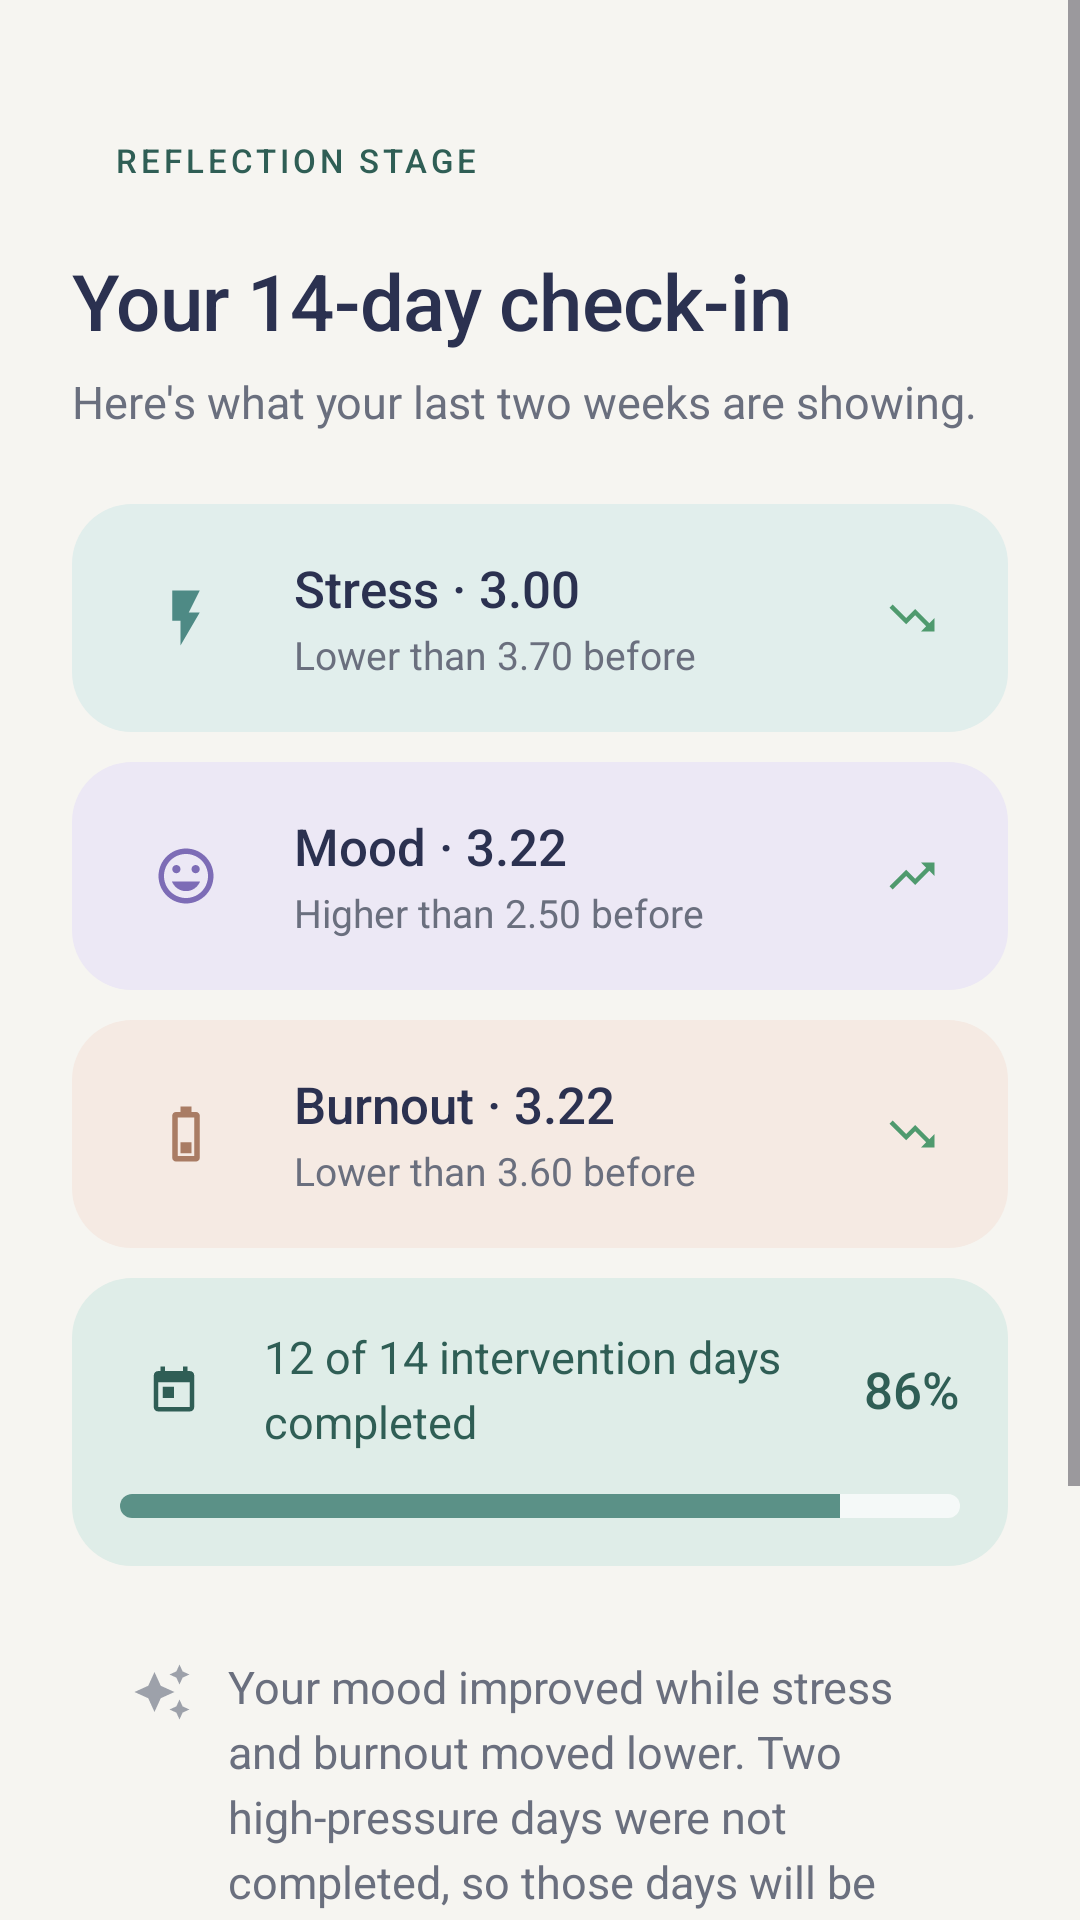

Where to tap for icons on this 1080px x 1920px app screen, as (x,y):
battery low: (186,1134)
bolt: (186,617)
calendar: (174,1389)
sparkle: (162,1692)
trend down: (912,618), (912,1134)
trend up: (912,876)
